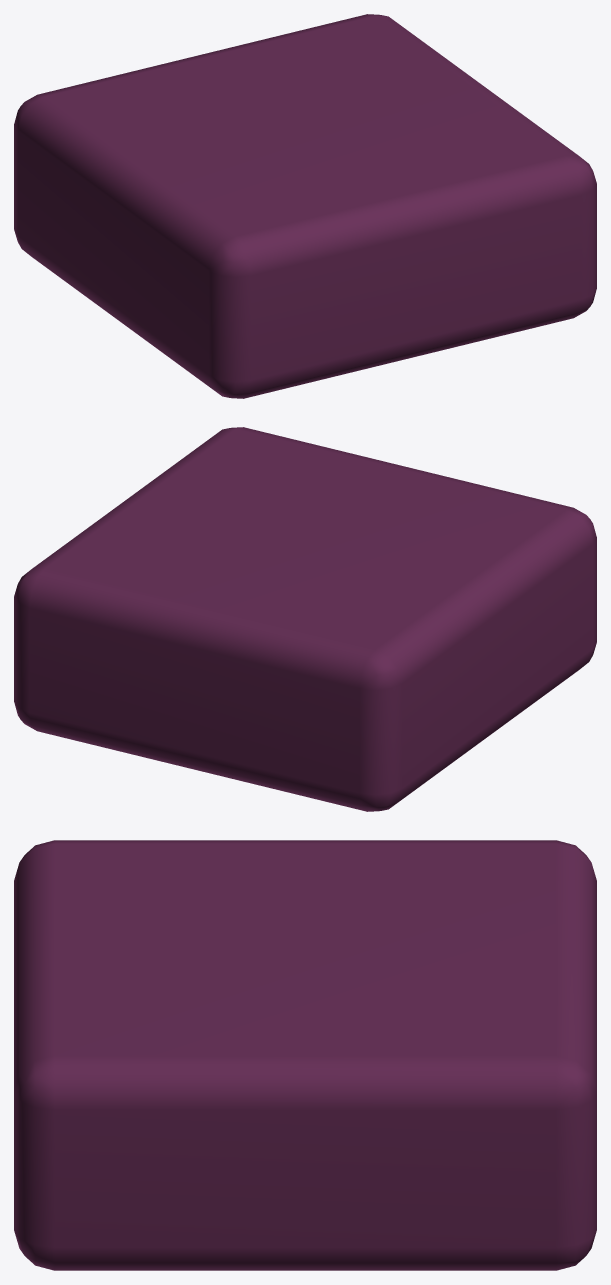
The model's file is rack_slot.glb.
3 views of the same model, one above another, from view 1: azimuth 30°, elevation 25°; view 2: azimuth 150°, elevation 25°; view 3: azimuth 270°, elevation 25° (orthographic). The views are drawn at different scales.
Parts seen in each view (by area): view 1: Cube; view 2: Cube; view 3: Cube.
Boxes of the visible parts, box(x1,y1,x2,y2) form: Cube: box(14, 14, 596, 398); Cube: box(14, 427, 596, 811); Cube: box(14, 840, 596, 1270).
Size of the model in its own units: 1 by 0.4 by 1.
